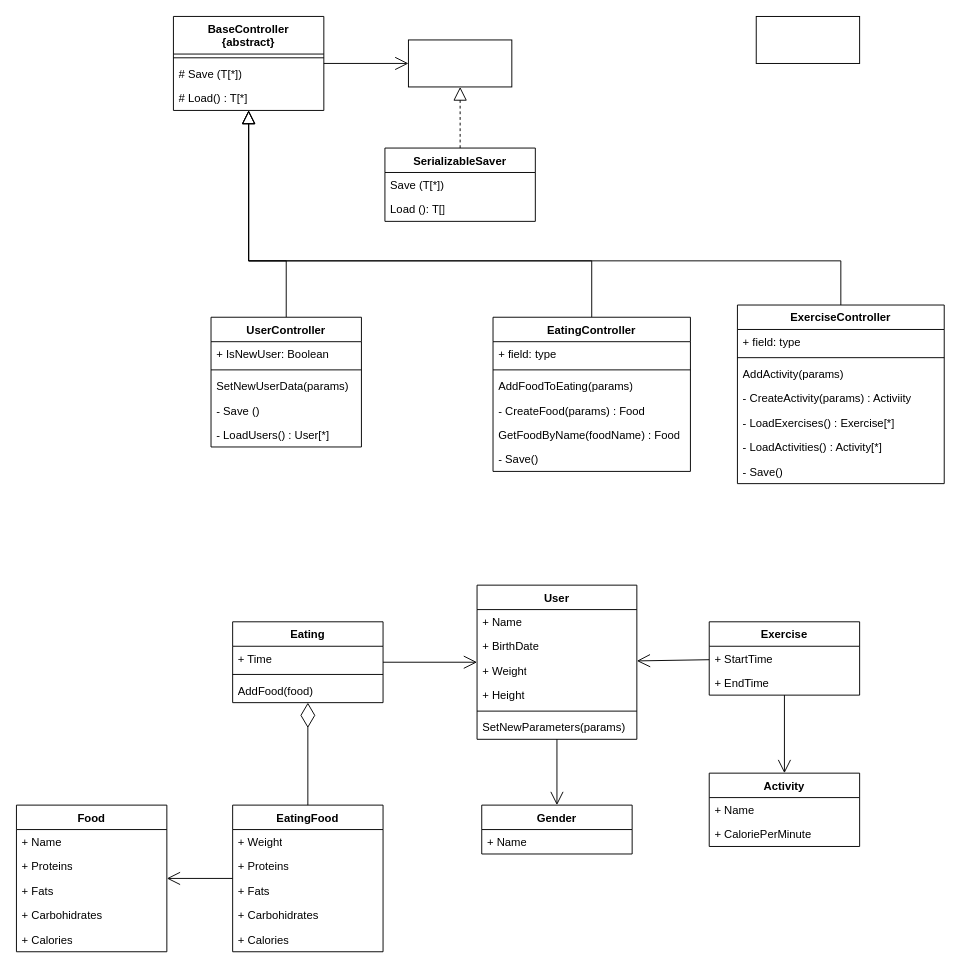
This 961x971 diagram has some shape labels left out. Here are the shapes that lost their labels. From the top down, the centre of each, then its label:
the point at 807,39: Client
the point at 459,63: «interface» IDataSaver
